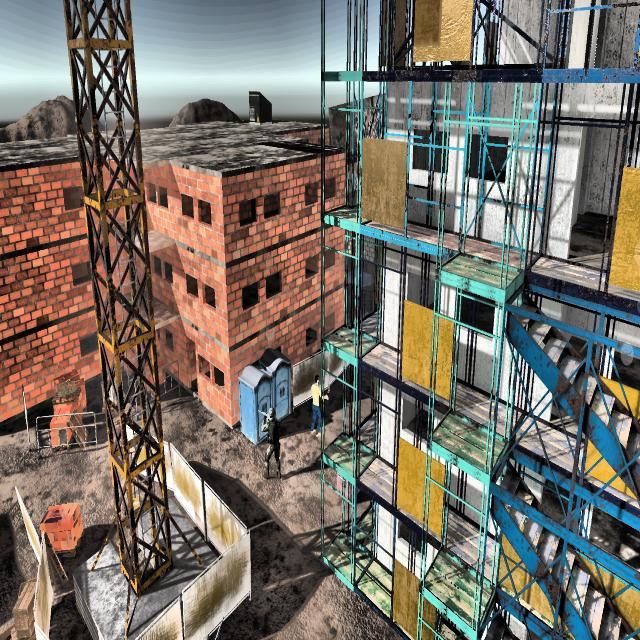bad: (260, 393, 286, 487)
good: (302, 370, 330, 446)
